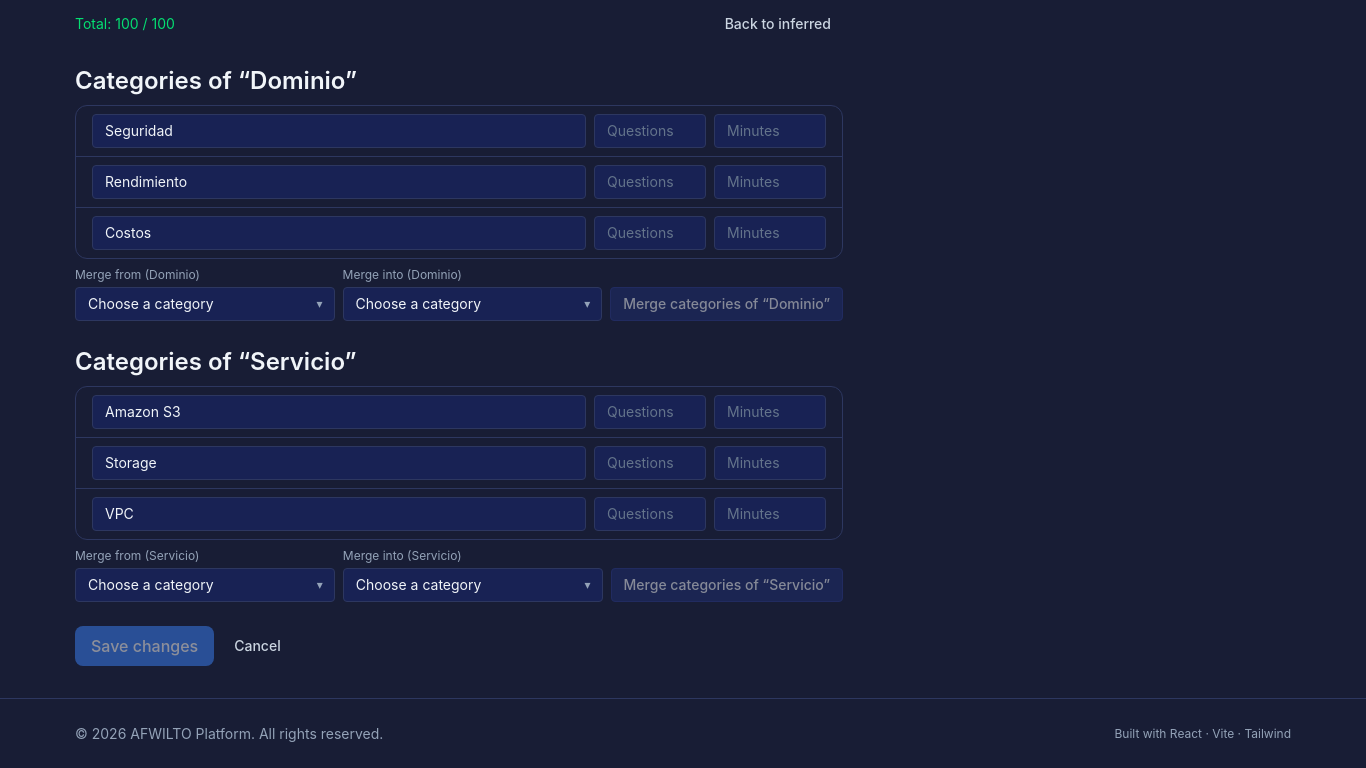
Test: ExamEditPage: merging categories (S08-5) › the merge button needs two different categories
(page scrolled)
Expected: the button "Merge categories of “Servicio”" is disabled, [611,568,843,602]
Select "Storage" in the dropdown labelled "Merge from (Servicio)" at (205, 585), box [75,568,335,602]
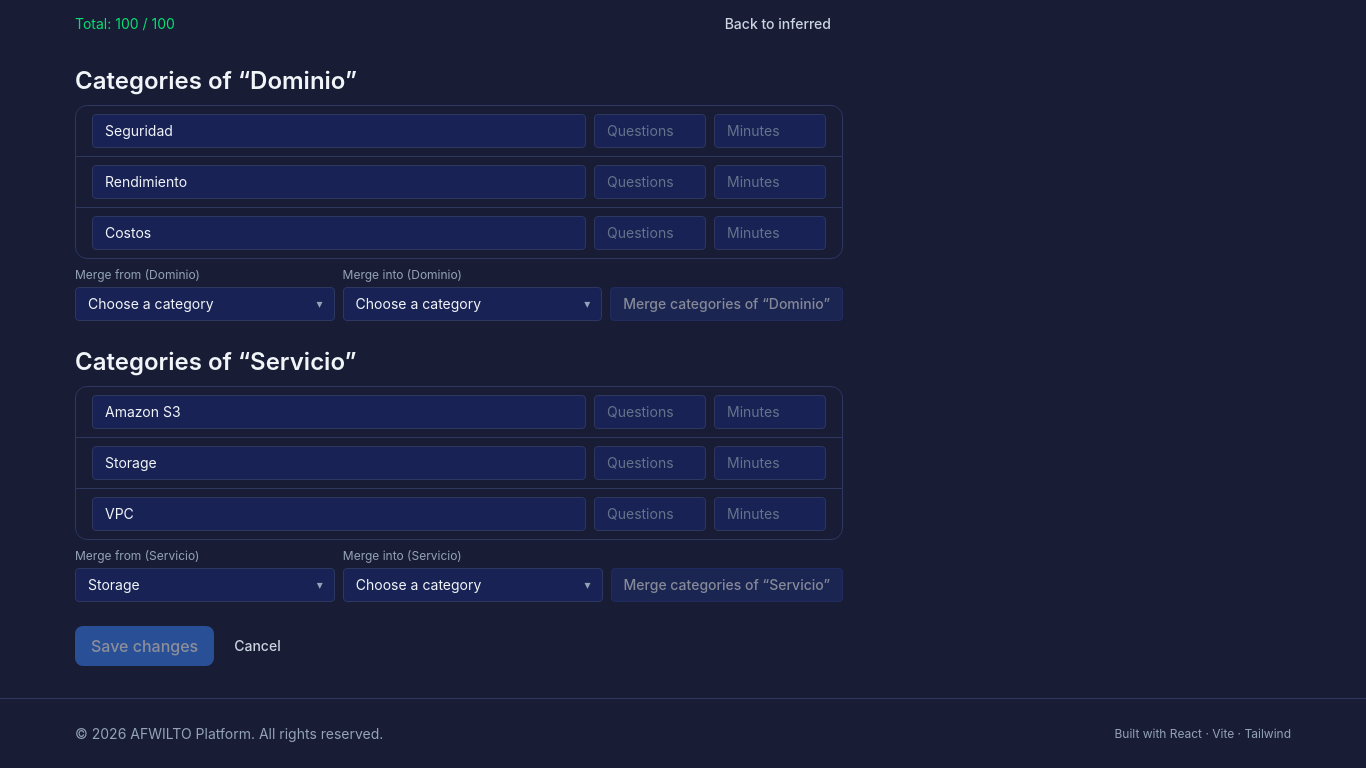
Expected: the button "Merge categories of “Servicio”" is disabled, [611,568,843,602]
Select "VPC" in the dropdown labelled "Merge into (Servicio)" at (473, 585), box [343,568,603,602]
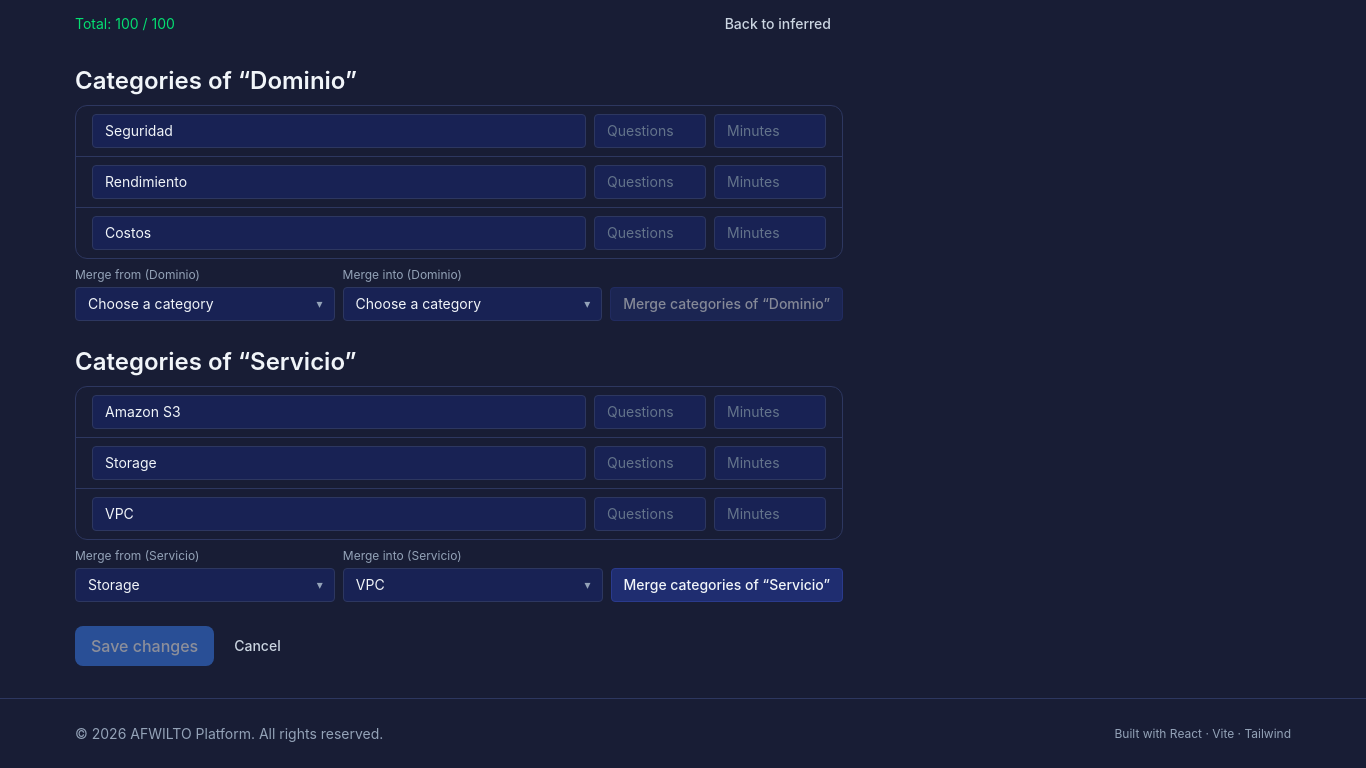
Now the button "Merge categories of “Servicio”" is enabled, box [611,568,843,602]
